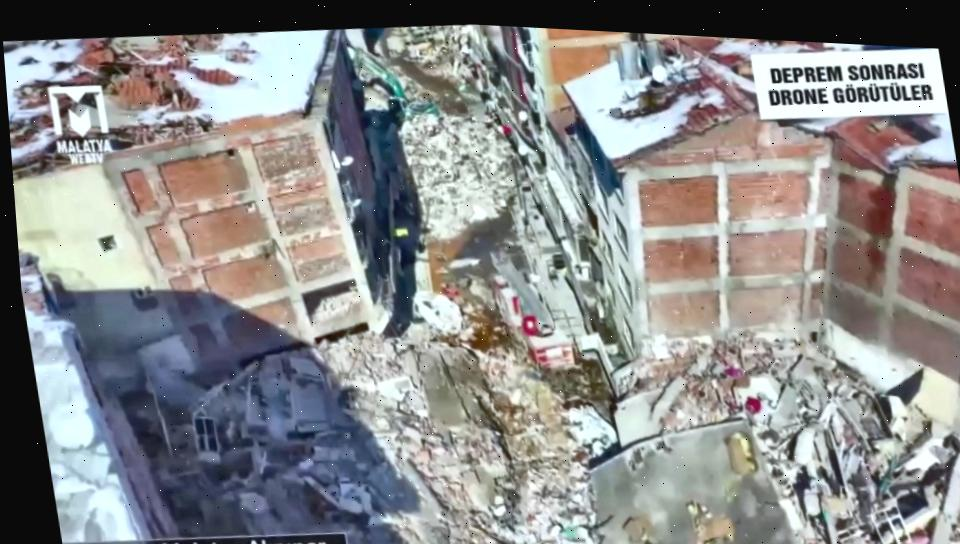kapali: (431, 269, 657, 544), (388, 87, 527, 259), (359, 25, 455, 85)
